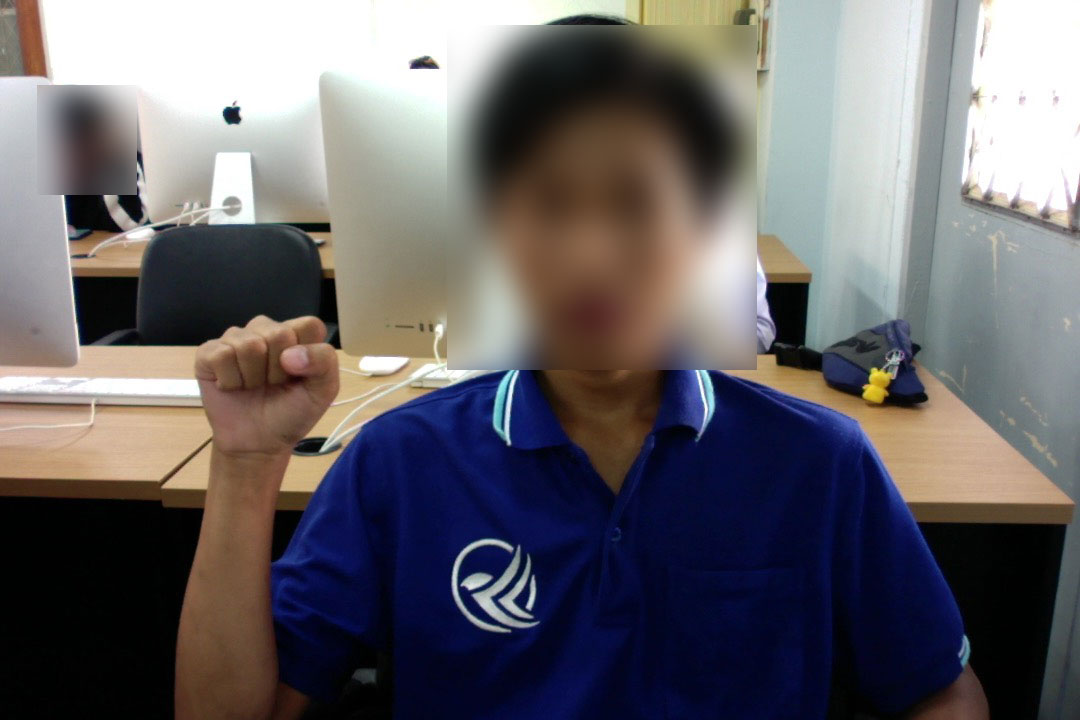sor: (185, 303, 344, 476)
